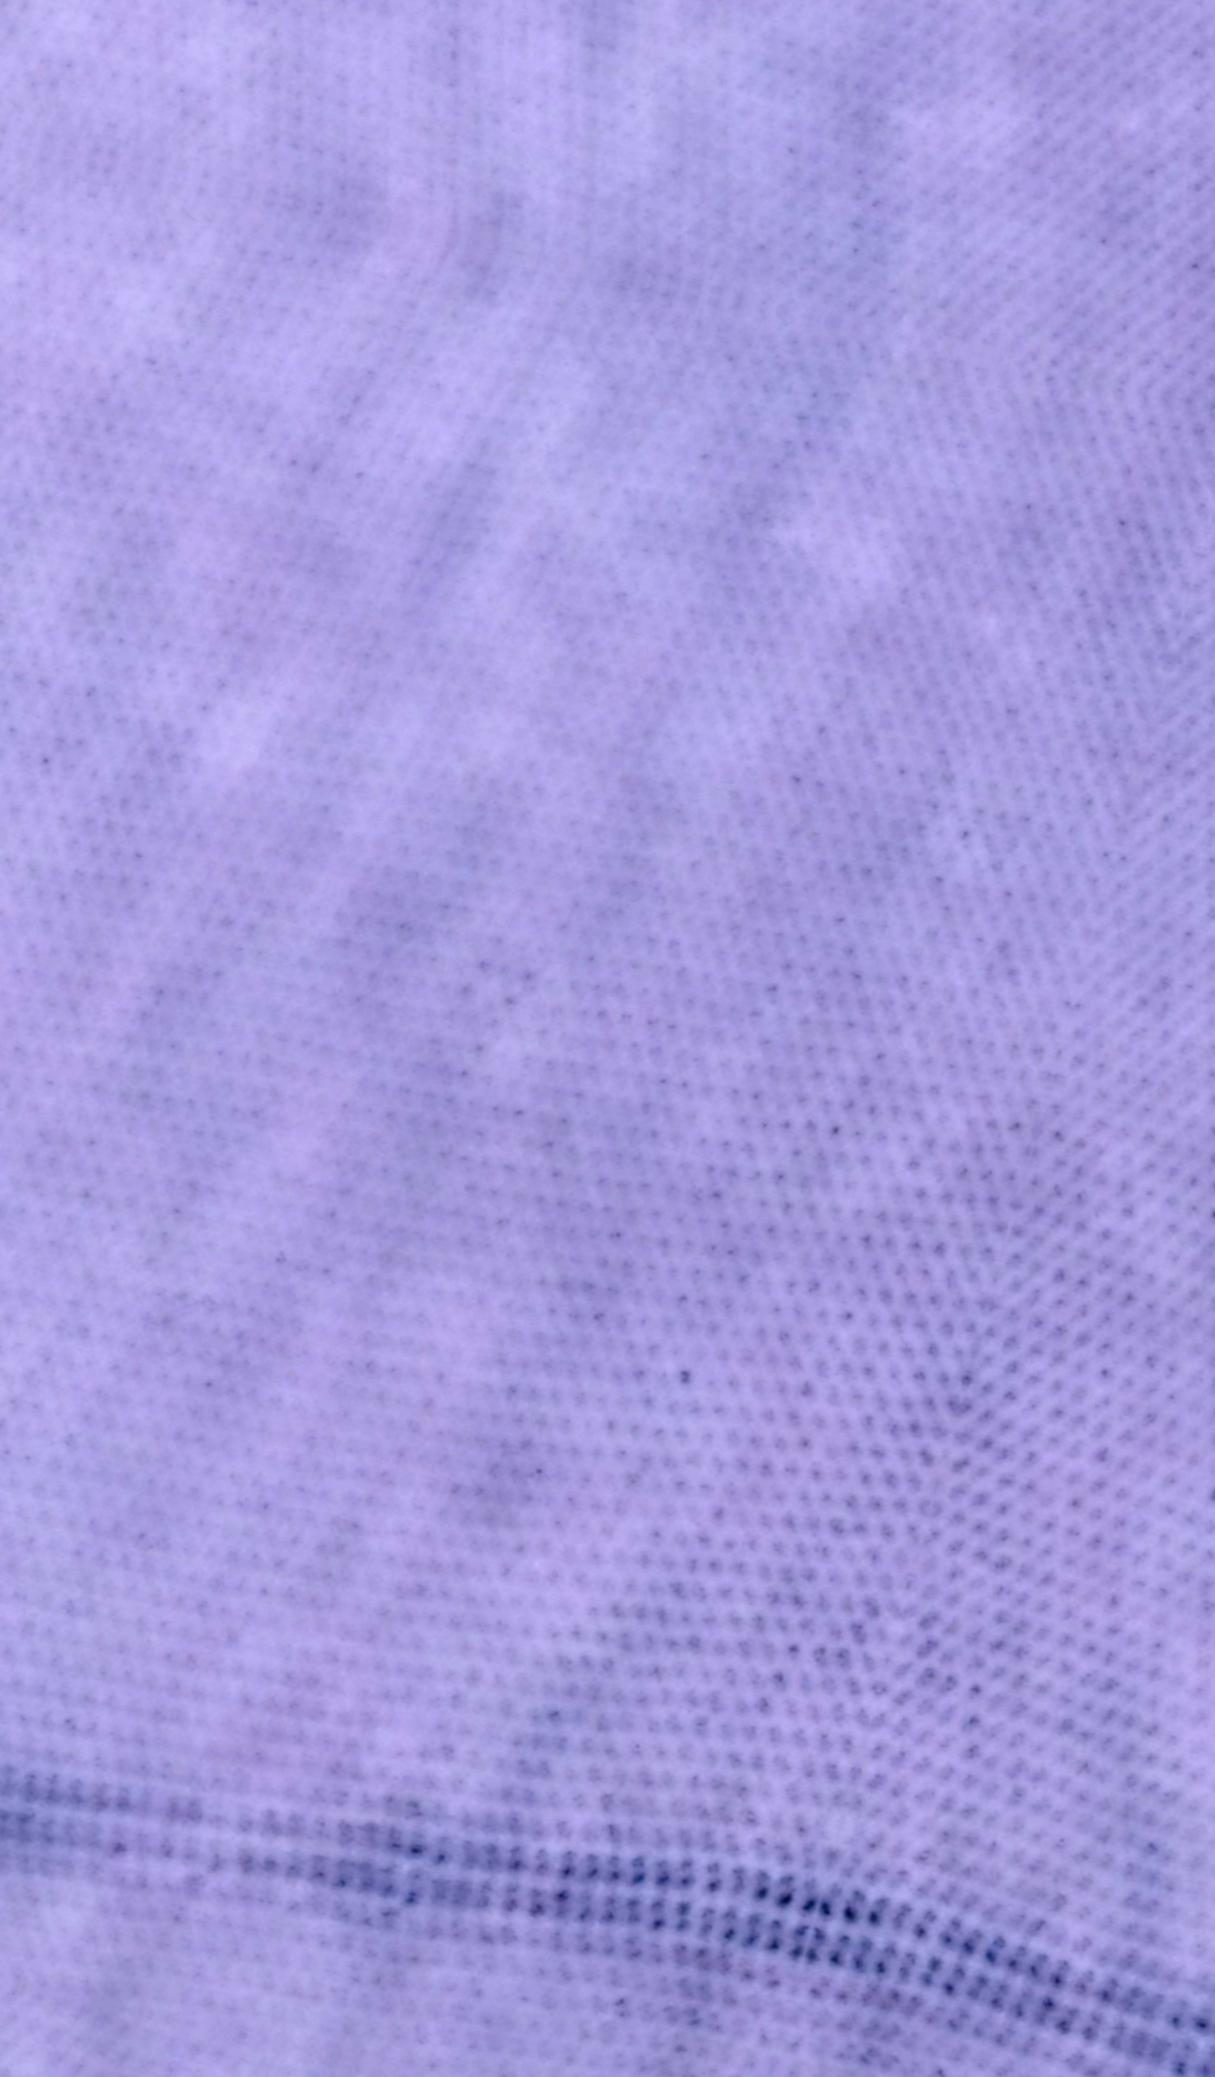slub: (9, 1754, 1211, 2067)
